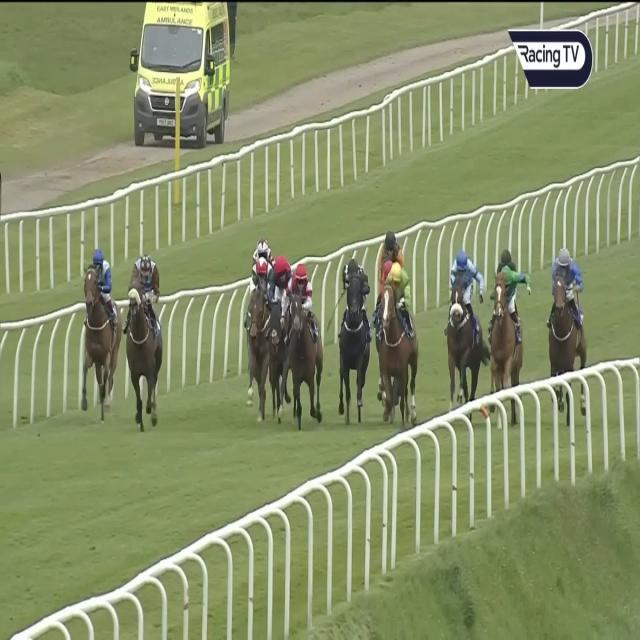horses-racing: (117, 257, 167, 396), (380, 261, 416, 423), (83, 244, 117, 412), (548, 247, 584, 398), (447, 250, 481, 401), (339, 256, 369, 417), (242, 260, 270, 418), (290, 258, 315, 427), (492, 264, 518, 407), (269, 254, 293, 366), (378, 227, 403, 275), (250, 235, 277, 266), (375, 257, 392, 289)
